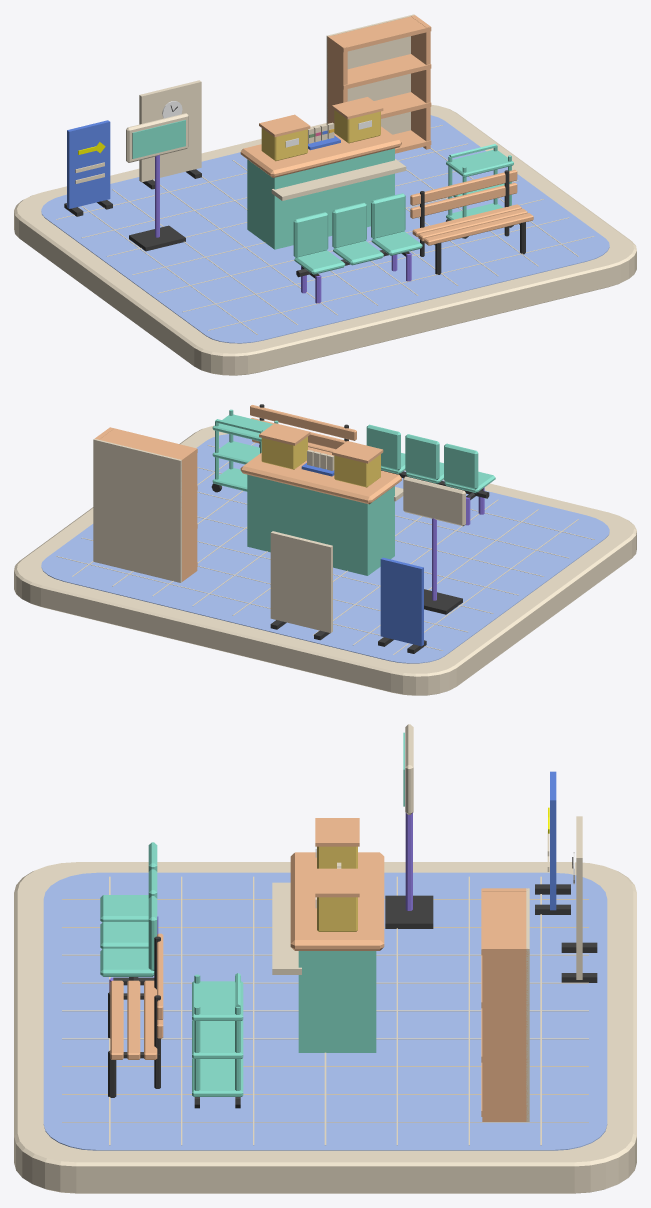
3 renders of one model, top to bottom at view 1: azimuth 30°, elevation 25°; view 2: azimuth 150°, elevation 25°; view 3: azimuth 270°, elevation 25°, orthographic. The views are drawn at different scales.
Parts seen in each view (by area): view 1: COM-02 Floor Surface, COM-01 Rounded Base Direct, Counter body, Panel.001, Panel, Back.003, Countertop, Side.001, Visitor shelf, Shelf.003, Shelf.002, Inset (+21 smaller); view 2: COM-02 Floor Surface, COM-01 Rounded Base Direct, Back.003, Counter body, Panel.001, Panel, Countertop, Sign panel, Side, Back, Back.001, Shelf.003 (+11 smaller); view 3: COM-02 Floor Surface, COM-01 Rounded Base Direct, Counter body, Side.001, Countertop, Shelf.003, Visitor shelf, Tray.002, Tray, Tray.001, Foot, Seat.002 (+14 smaller).
Boxes of the visible parts, <box> form: COM-02 Floor Surface: <box>41,115,609,343</box>; COM-01 Rounded Base Direct: <box>14,104,636,375</box>; Counter body: <box>247,148,394,249</box>; Panel.001: <box>139,80,201,182</box>; Panel: <box>67,120,110,208</box>; Back.003: <box>326,14,414,134</box>; Countertop: <box>240,126,401,177</box>; Side.001: <box>411,15,430,149</box>; Visitor shelf: <box>271,159,406,200</box>; Shelf.003: <box>333,16,431,52</box>; Shelf.002: <box>343,54,431,89</box>; Inset: <box>132,120,185,158</box>; COM-02 Floor Surface: <box>41,434,609,663</box>; COM-01 Rounded Base Direct: <box>14,425,636,695</box>; Back.003: <box>93,438,181,582</box>; Counter body: <box>247,474,394,575</box>; Panel.001: <box>270,531,332,633</box>; Panel: <box>380,557,423,646</box>; Countertop: <box>240,453,401,504</box>; Sign panel: <box>403,476,465,526</box>; Side: <box>178,447,197,581</box>; Back: <box>444,443,478,489</box>; Back.001: <box>405,434,439,479</box>; Shelf.003: <box>99,427,197,461</box>; COM-02 Floor Surface: <box>43,872,607,1150</box>; COM-01 Rounded Base Direct: <box>14,862,636,1193</box>; Counter body: <box>298,951,376,1052</box>; Side.001: <box>482,946,527,1121</box>; Countertop: <box>290,852,384,950</box>; Shelf.003: <box>481,888,529,955</box>; Visitor shelf: <box>272,882,301,974</box>; Tray.002: <box>192,981,243,1020</box>; Tray: <box>192,1058,243,1096</box>; Tray.001: <box>192,1020,243,1058</box>; Foot: <box>385,895,433,928</box>; Seat.002: <box>100,948,154,976</box>.
Bounding box in the file's own units: 6 × 1.9 × 5.2.
1 material, 1 textured.
